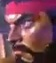ryu: (6, 0, 54, 62)
